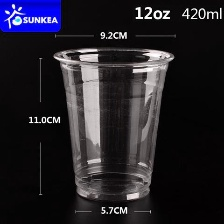glass: (50, 42, 177, 211)
